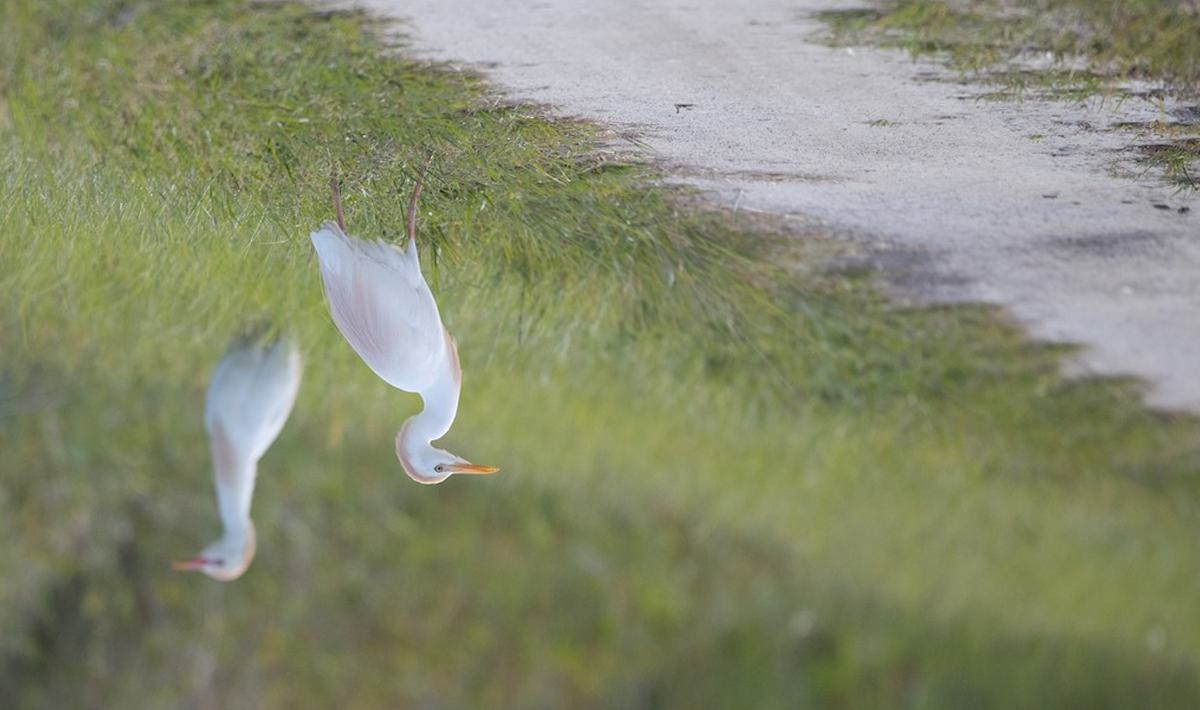egret: (298, 190, 504, 503), (169, 330, 307, 595)
